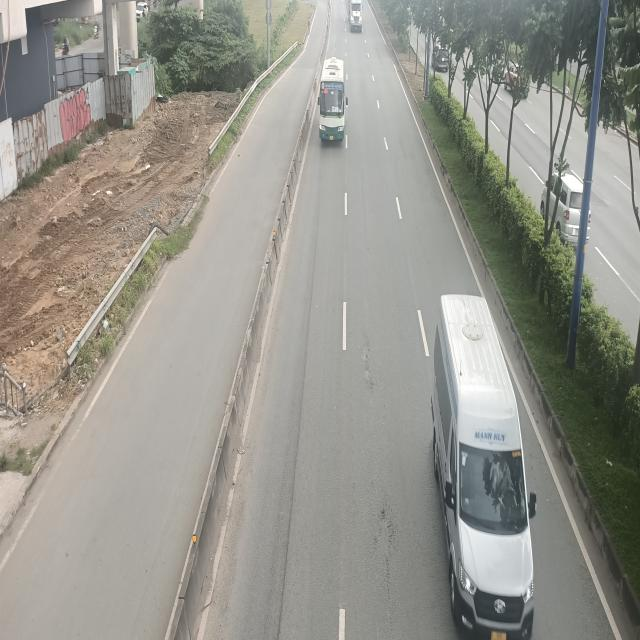coach: (319, 59, 349, 145)
container: (349, 0, 363, 31)
van: (429, 289, 538, 638)
